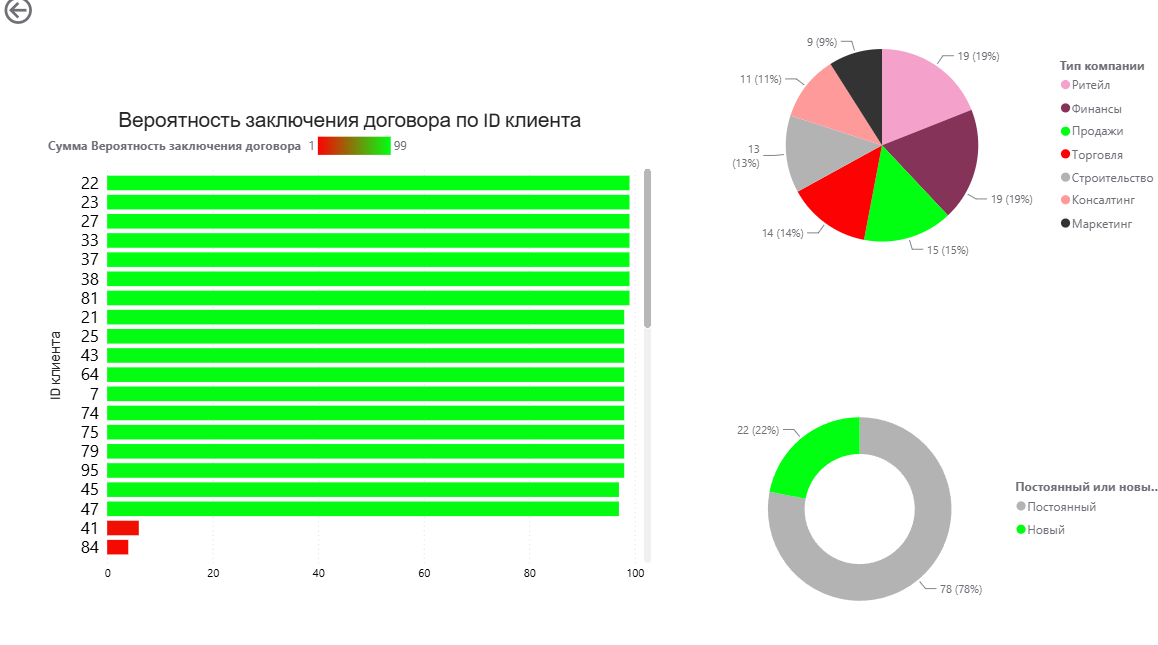

What the dashboard file says about the page in this screenshot:
{"tool":"powerbi","page":{"name":"ЦД2","canvas":[1280,720],"ordinal":1},"visuals":[{"type":"actionButton","box":[0,0,100,40],"z":0},{"type":"clusteredBarChart","title":"Вероятность заключения договора по ID клиента","fields":{"Y":["Sum(ЦД2.Вероятность заключения договора)"],"Category":["ЦД2.ID клиента"]},"box":[48,128,672,528],"z":1001},{"type":"pieChart","fields":{"Category":["pub?gid=1608045540&single=true&output=csv.Тип компании"],"Y":["CountNonNull(pub?gid=1608045540&single=true&output=csv.Тип компании)"]},"box":[768,16,512,304],"z":1002},{"type":"donutChart","fields":{"Category":["ЦД2.2.Постоянный или новый клиент"],"Y":["CountNonNull(ЦД2.2.Постоянный или новый клиент)"]},"box":[768,416,512,304],"z":1003}]}

Visuals, with their boxes in screenshot pixels (x1, y1, x2, y2), scaled from the page's 1280x720 canvas onto the 1158x645 screenshot:
actionButton: left=0, top=0, right=90, bottom=36
"Вероятность заключения договора по ID клиента" clusteredBarChart: left=43, top=115, right=651, bottom=588
pieChart - pub?gid=1608045540&single=true&output=csv.Тип компании x CountNonNull(pub?gid=1608045540&single=true&output=csv.Тип компании): left=695, top=14, right=1157, bottom=287
donutChart - ЦД2.2.Постоянный или новый клиент x CountNonNull(ЦД2.2.Постоянный или новый клиент): left=695, top=373, right=1157, bottom=644
